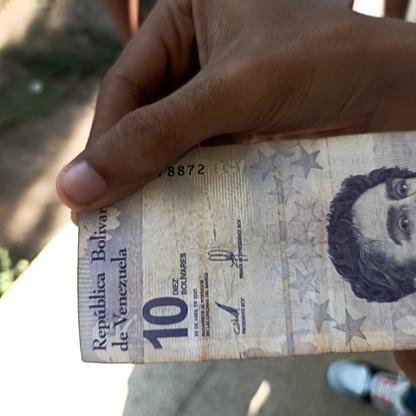ten-front-vef: (74, 126, 416, 367)
